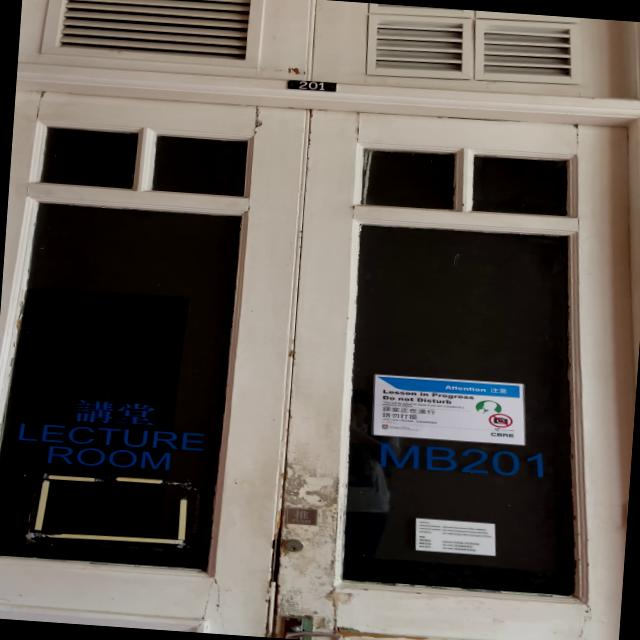room201: (282, 76, 344, 96)
room201Window: (370, 438, 554, 484)
